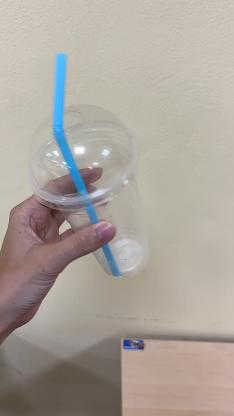Plastic Cup: (27, 105, 148, 277)
